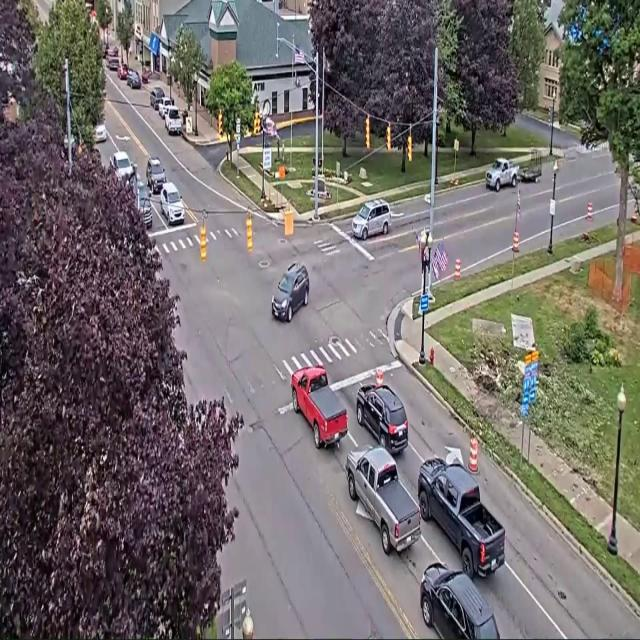car: (420, 563, 499, 639), (356, 384, 408, 453), (272, 264, 309, 321), (352, 200, 390, 240), (134, 176, 152, 229), (161, 183, 184, 224), (146, 158, 165, 193), (110, 152, 134, 179), (165, 105, 181, 135), (158, 96, 173, 119), (150, 87, 164, 110), (127, 70, 141, 88), (94, 124, 107, 143), (107, 55, 119, 71), (118, 64, 128, 80), (141, 68, 150, 83), (126, 69, 133, 85), (103, 42, 109, 59), (108, 46, 118, 56)
traffic signal: (246, 212, 252, 253), (200, 224, 206, 261), (253, 111, 260, 135), (217, 110, 223, 136), (386, 124, 392, 150), (366, 117, 370, 149), (408, 135, 412, 161)
truck: (418, 457, 505, 577), (345, 446, 420, 554), (291, 366, 348, 449), (486, 159, 519, 191), (518, 149, 543, 183)
